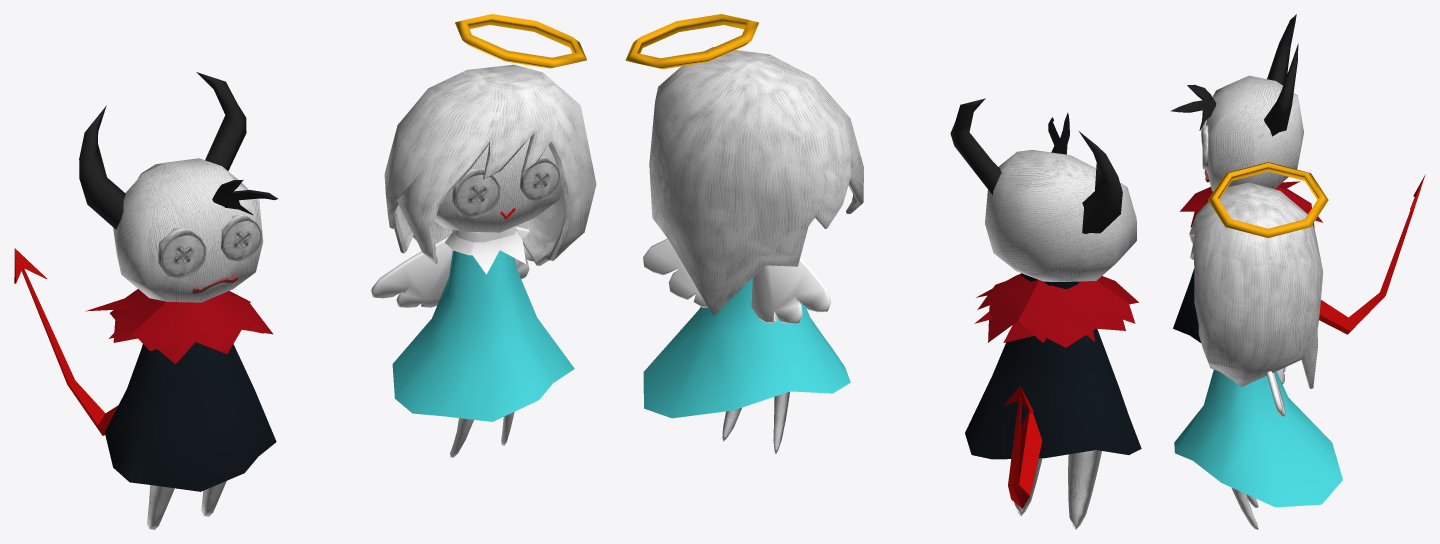
Rendered from Humans.FBX.
The picture shows the model from 3 angles, left to right: view 1: azimuth 30°, elevation 25°; view 2: azimuth 150°, elevation 25°; view 3: azimuth 270°, elevation 25°; orthographic projection. The views are drawn at different scales.
Visible parts, largest first — view 1: girl_body, boy_body, collar_boy, horns, wings, halo, tile, collar_girl; view 2: girl_body, boy_body, collar_boy, wings, horns, halo, tile; view 3: girl_body, boy_body, halo, horns, tile, collar_boy, wings.
Boxes of the visible parts, bbox=[...] form: girl_body: bbox=[384, 64, 596, 457]; boy_body: bbox=[104, 158, 277, 529]; collar_boy: bbox=[85, 289, 272, 363]; horns: bbox=[79, 72, 246, 229]; wings: bbox=[371, 226, 533, 307]; halo: bbox=[455, 14, 586, 68]; tile: bbox=[14, 248, 118, 435]; collar_girl: bbox=[445, 226, 525, 274]; girl_body: bbox=[643, 47, 863, 454]; boy_body: bbox=[965, 112, 1141, 529]; collar_boy: bbox=[974, 273, 1138, 347]; wings: bbox=[643, 238, 831, 323]; horns: bbox=[950, 98, 1122, 233]; halo: bbox=[625, 14, 758, 69]; tile: bbox=[1003, 386, 1042, 508]; girl_body: bbox=[1174, 182, 1342, 529]; boy_body: bbox=[1170, 75, 1303, 342]; halo: bbox=[1208, 162, 1328, 237]; horns: bbox=[1264, 14, 1298, 136]; tile: bbox=[1319, 174, 1425, 334]; collar_boy: bbox=[1180, 181, 1322, 228]; wings: bbox=[1266, 367, 1285, 416].
Size of the model in its own units: 232 by 192 by 121.
